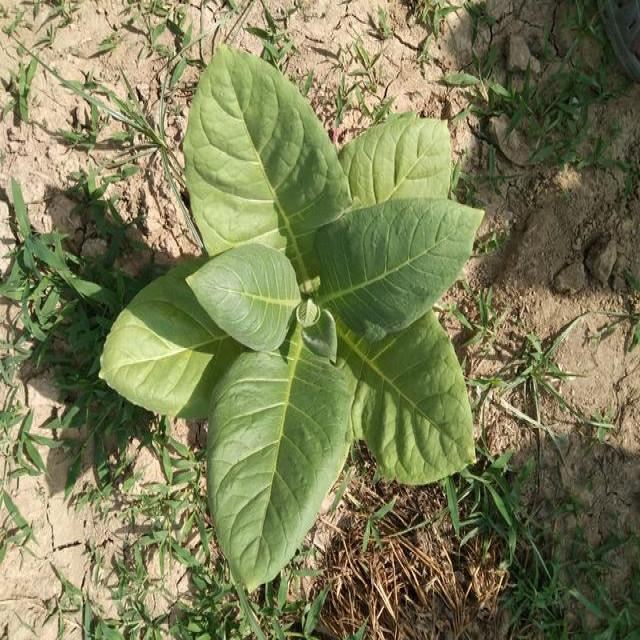crop: (101, 54, 481, 596)
